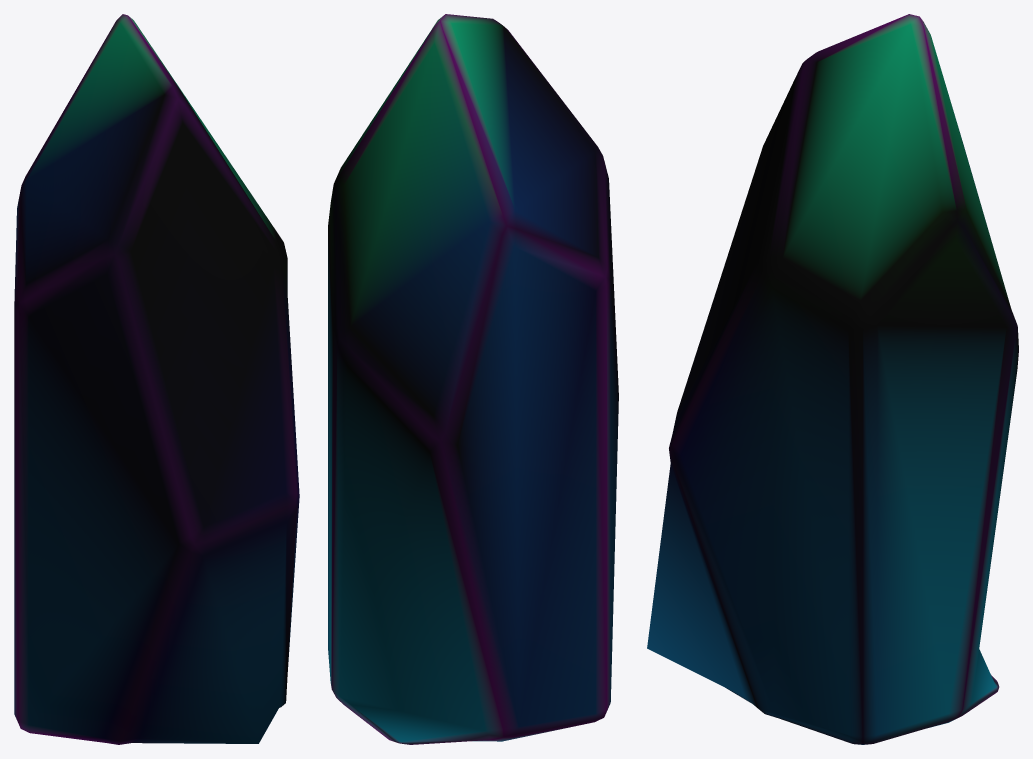
File: crystal.glb
3 renders of one model, left to right at view 1: azimuth 30°, elevation 25°; view 2: azimuth 150°, elevation 25°; view 3: azimuth 270°, elevation 25°, orthographic. The views are drawn at different scales.
Visible parts, largest first — view 1: Solid; view 2: Solid; view 3: Solid.
Boxes of the visible parts, x1=… form: Solid: x1=14, y1=14, x2=299, y2=744; Solid: x1=328, y1=14, x2=618, y2=744; Solid: x1=647, y1=14, x2=1018, y2=744.
Size of the model in its own units: 1.81 by 4.37 by 2.19.
